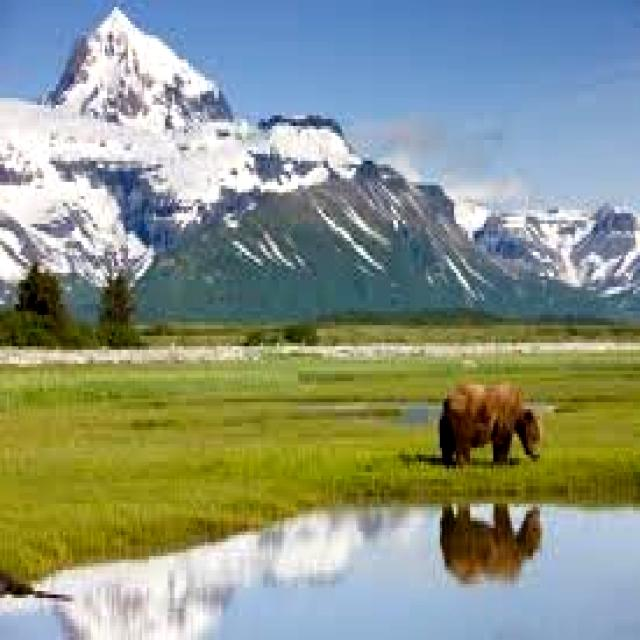bear: (434, 376, 548, 485)
